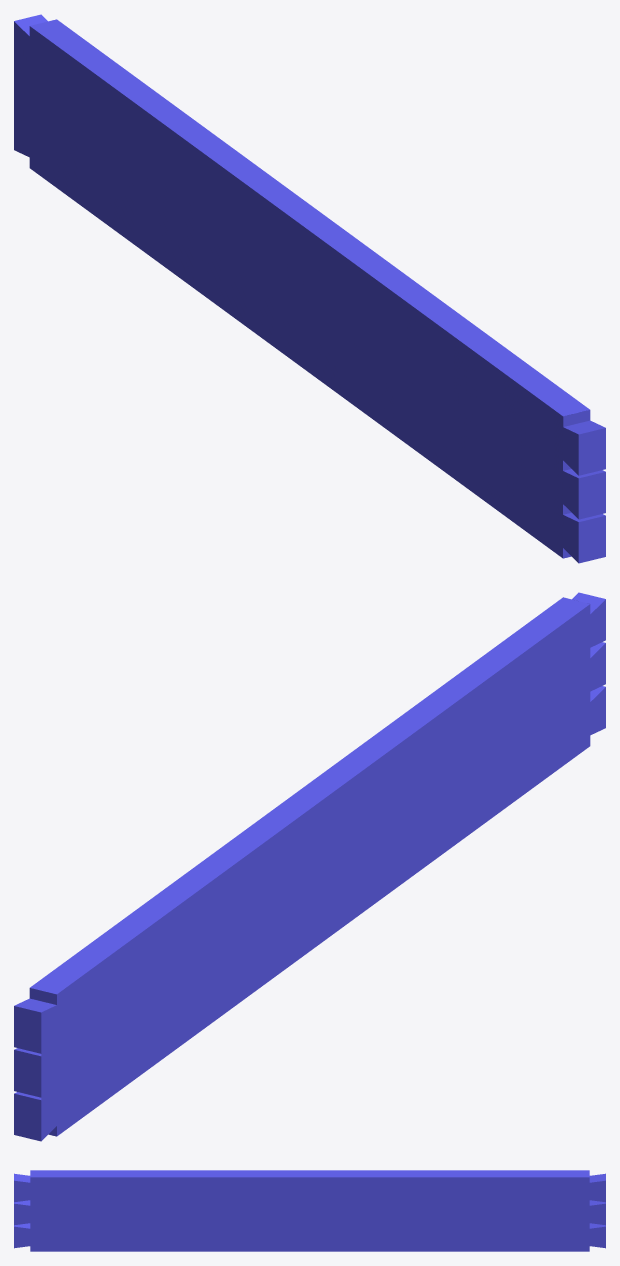
The model's file is original-9.obj.
3 views of the same model, one above another, from view 1: azimuth 30°, elevation 25°; view 2: azimuth 150°, elevation 25°; view 3: azimuth 270°, elevation 25° (orthographic). The views are drawn at different scales.
Parts seen in each view (by area): view 1: Group9/mesh25/mesh25-geometry#mesh25-geometry; view 2: Group9/mesh25/mesh25-geometry#mesh25-geometry; view 3: Group9/mesh25/mesh25-geometry#mesh25-geometry.
Boxes of the visible parts, left/top/right/bottom form: Group9/mesh25/mesh25-geometry#mesh25-geometry: left=14, top=14, right=605, bottom=563; Group9/mesh25/mesh25-geometry#mesh25-geometry: left=14, top=592, right=605, bottom=1141; Group9/mesh25/mesh25-geometry#mesh25-geometry: left=14, top=1170, right=605, bottom=1251.
Size of the model in its own units: 0.0148 by 0.0741 by 0.5335.
